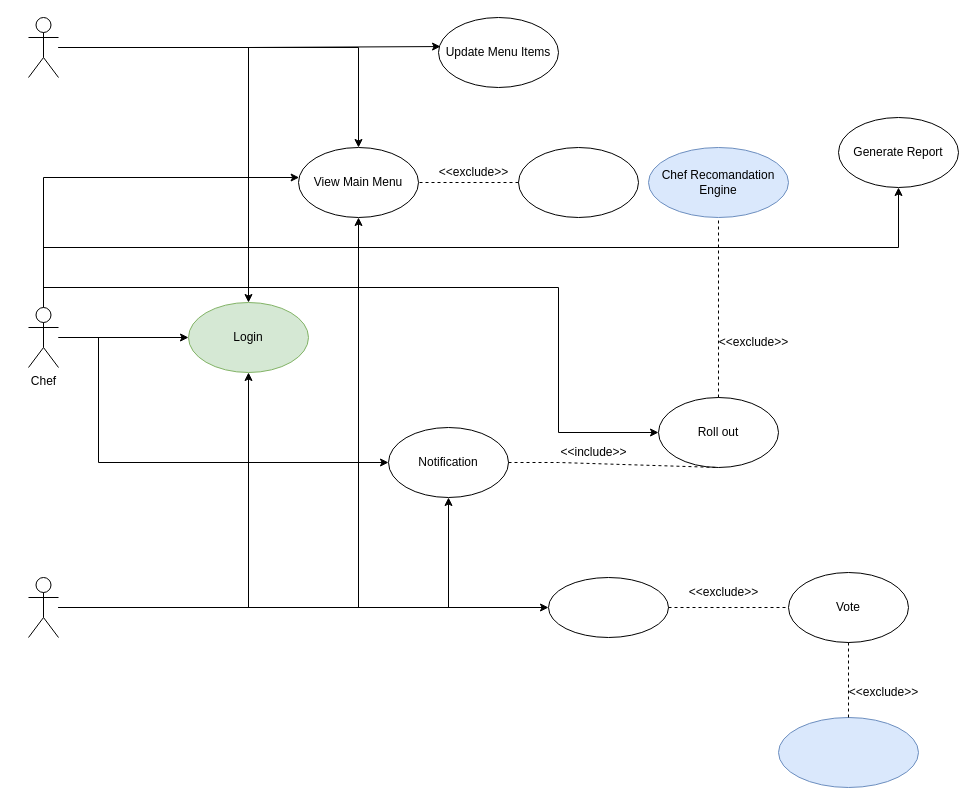
Some shapes in this 976 by 805 pixel diagram are drawn without their labels. Here are the shapes that lost their labels. From the top down, the box of each, then its label:
(28, 16, 58, 78): Admin
(518, 146, 638, 218): Feedback
(28, 576, 58, 638): Employee
(548, 576, 668, 638): View Today's Menu
(778, 716, 918, 788): User Recomandation Engine
